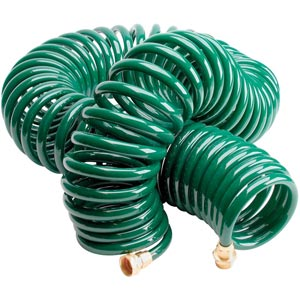Nonrec_Tangler: (3, 19, 296, 278)
